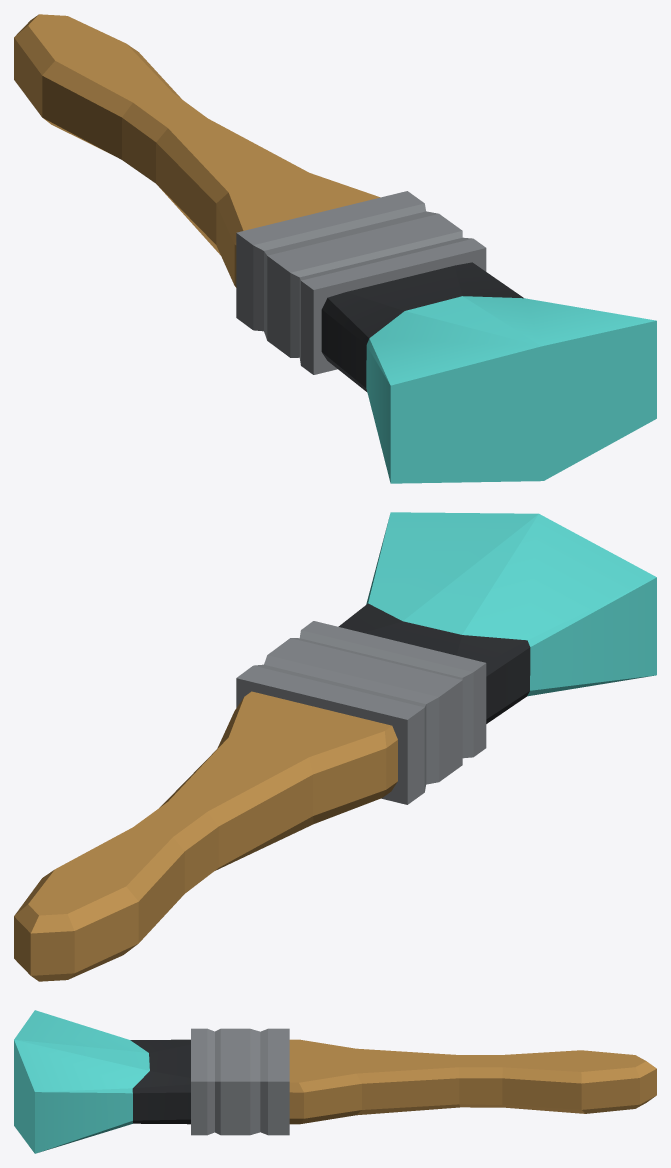
File: SM_Prop_Tool_Paint_Brush_01.fbx
3 views of the same model, one above another, from view 1: azimuth 30°, elevation 25°; view 2: azimuth 150°, elevation 25°; view 3: azimuth 270°, elevation 25° (orthographic). The views are drawn at different scales.
Visible parts, largest first — view 1: SM_Prop_Tool_Paint_Brush_01; view 2: SM_Prop_Tool_Paint_Brush_01; view 3: SM_Prop_Tool_Paint_Brush_01.
Boxes of the visible parts, x1,y1,x2,y2 form: SM_Prop_Tool_Paint_Brush_01: [14, 14, 656, 483]; SM_Prop_Tool_Paint_Brush_01: [14, 512, 656, 981]; SM_Prop_Tool_Paint_Brush_01: [14, 1010, 656, 1153].
Bounding box in the file's own units: 13.84 × 6.71 × 45.86.
